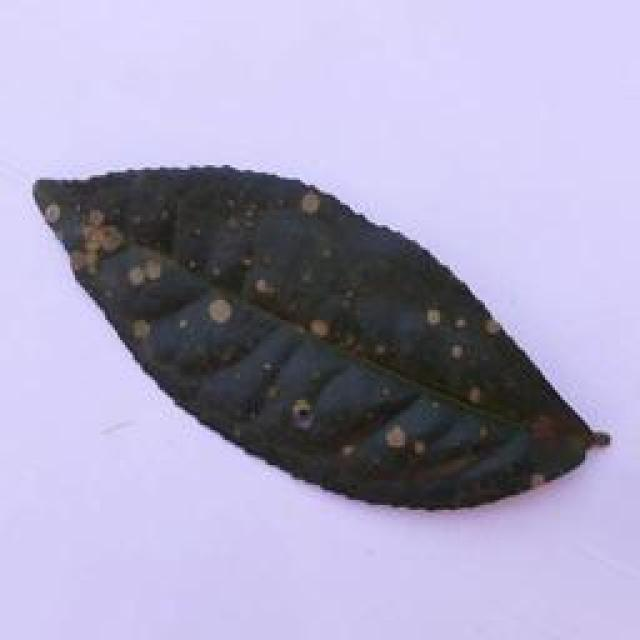Algal Leaf Spot: (29, 166, 615, 518)
